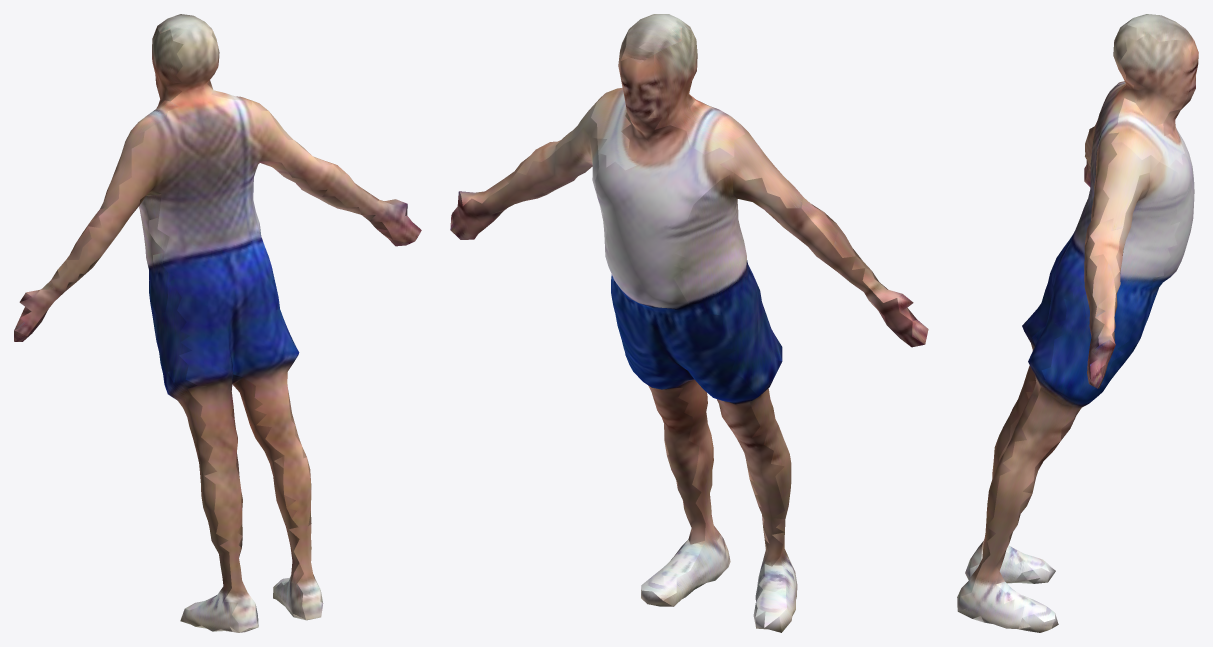
The picture shows the model from 3 angles, left to right: view 1: azimuth 30°, elevation 25°; view 2: azimuth 150°, elevation 25°; view 3: azimuth 270°, elevation 25°; orthographic projection. The views are drawn at different scales.
Parts seen in each view (by area): view 1: world; view 2: world; view 3: world.
Part boxes in pixels (box(x1,y1,x2,y2)): world: box(14, 14, 421, 632); world: box(450, 14, 928, 632); world: box(957, 14, 1198, 632).
Size of the model in its own units: 0.774 by 0.9991 by 0.3756.
1 material, 1 textured.
